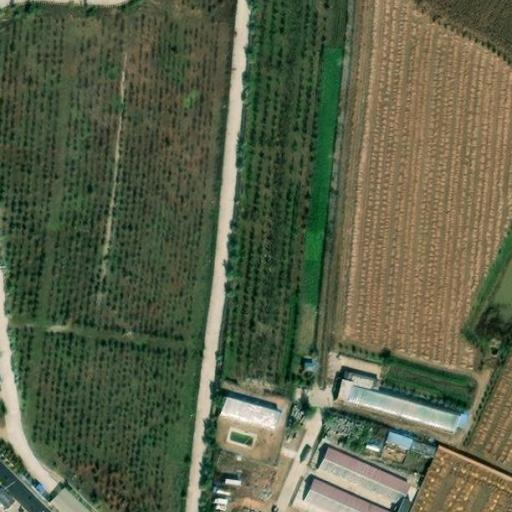building: (335, 367, 463, 434), (321, 443, 409, 503), (306, 475, 394, 512), (220, 393, 285, 427), (384, 427, 438, 460), (393, 479, 421, 512), (0, 483, 16, 511), (297, 355, 316, 372)
